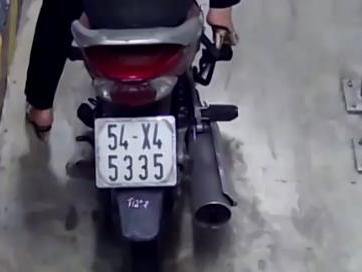num_plate: (93, 115, 179, 191)
